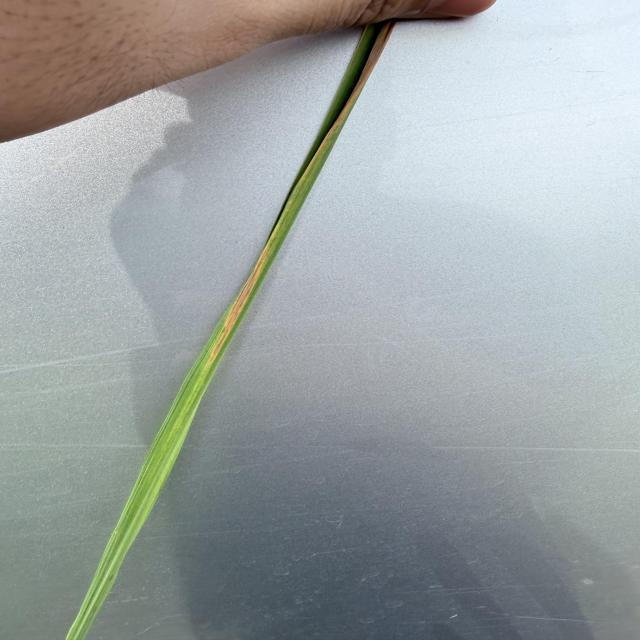Chay bia la: (206, 20, 398, 367)
